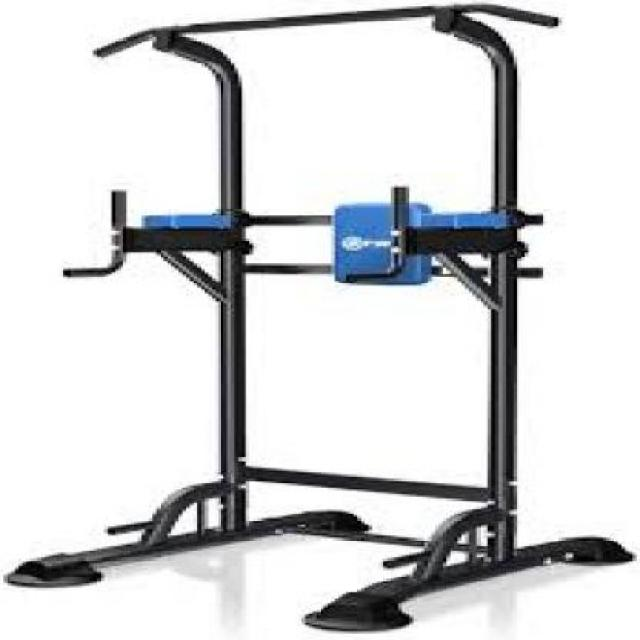chinning dipping: (12, 5, 628, 632)
